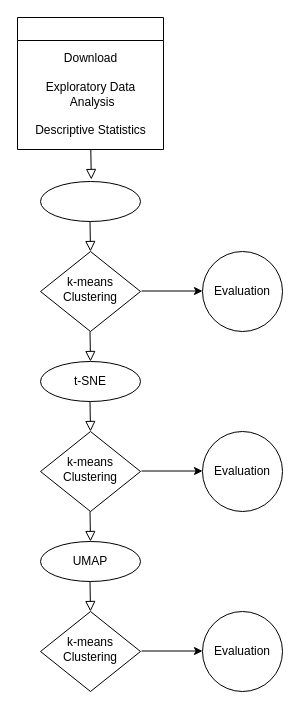
The diagram is 300 pixels wide and 709 high, and some of its shapes have lost their labels. The box of each missing label's shape, as (x1, y1, x2, y2) in pixels:
Breast Cancer Dataset: (16, 16, 164, 150)
Standardize Data: (40, 180, 140, 222)
